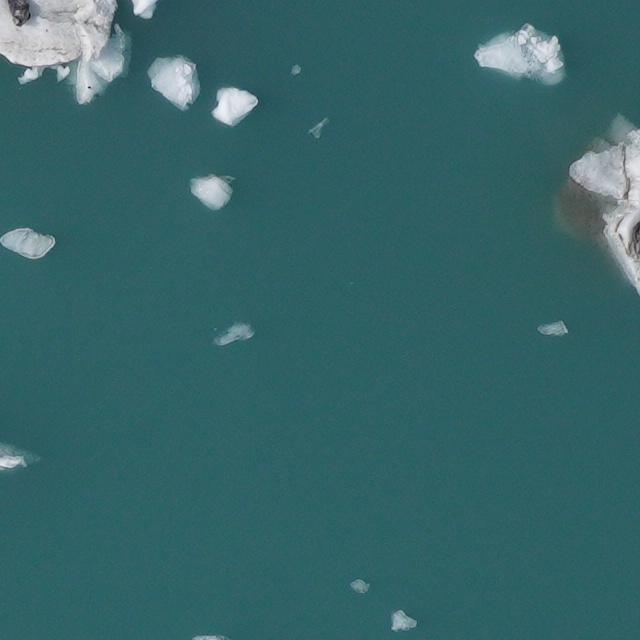seal: (8, 0, 31, 27)
